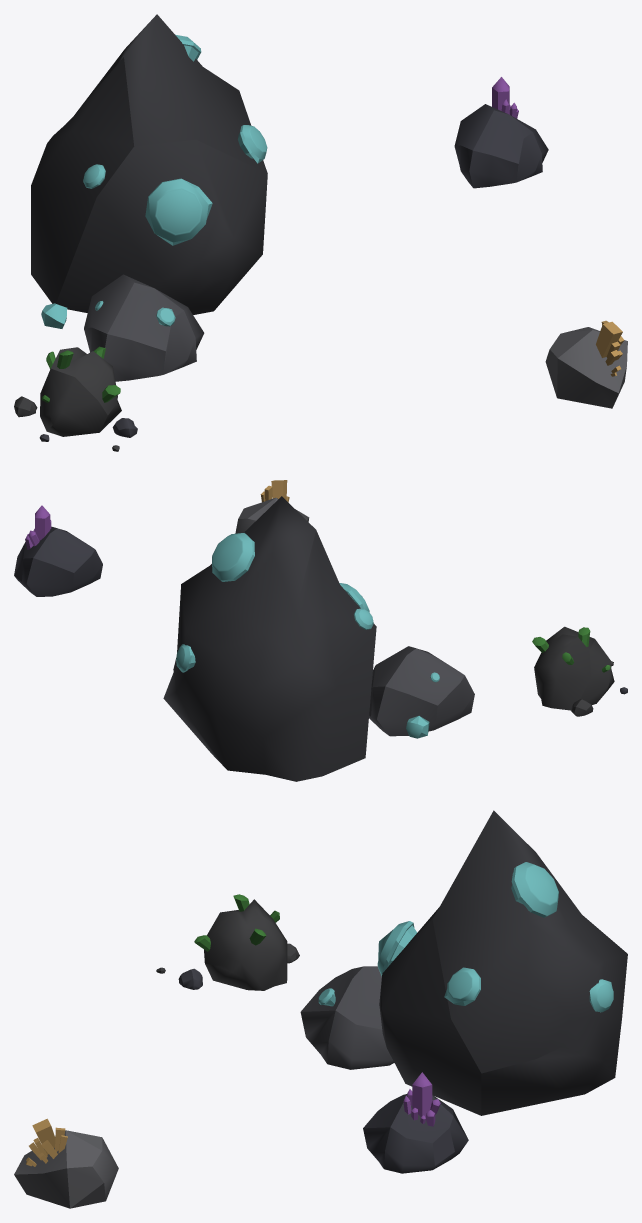
File: hallie_ores_NEW.fbx
The picture shows the model from 3 angles, top to bottom: view 1: azimuth 30°, elevation 25°; view 2: azimuth 150°, elevation 25°; view 3: azimuth 270°, elevation 25°; orthographic projection. The views are drawn at different scales.
Visible parts, largest first — view 1: m_oreRock (×2), m_oreRock3, m_oreRock4, m_oreRock1, m_diaGem2, m_diaGem4; view 2: m_oreRock (×2), m_oreRock3, m_oreRock4, m_diaGem, m_oreRock1, m_oreRock2, m_ameGem1, m_diaGem5; view 3: m_oreRock (×2), m_oreRock3, m_oreRock4, m_oreRock1, m_diaGem, m_diaGem2, m_diaGem4, m_ameGem1, m_diaGem5.
Part boxes in pixels (x1,y1,x2,y2): m_oreRock (×2): (31,14,548,314); m_oreRock3: (84,274,204,381); m_oreRock4: (40,347,121,436); m_oreRock1: (545,327,627,408); m_diaGem2: (145,178,212,245); m_diaGem4: (238,125,267,163); m_oreRock (×2): (14,496,376,781); m_oreRock3: (369,646,474,736); m_oreRock4: (534,626,614,710); m_diaGem: (212,533,254,581); m_oreRock1: (235,497,309,533); m_oreRock2: (406,716,429,738); m_ameGem1: (35,505,50,540); m_diaGem5: (176,644,195,672); m_oreRock (×2): (363,810,627,1173); m_oreRock3: (300,966,394,1069); m_oreRock4: (204,899,287,990); m_oreRock1: (14,1130,118,1208); m_diaGem: (511,862,558,917); m_diaGem2: (377,921,417,976); m_diaGem4: (444,967,480,1005); m_ameGem1: (412,1072,432,1117); m_diaGem5: (589,979,613,1012).
Bounding box in the file's own units: 6.01 × 2.66 × 5.33.
